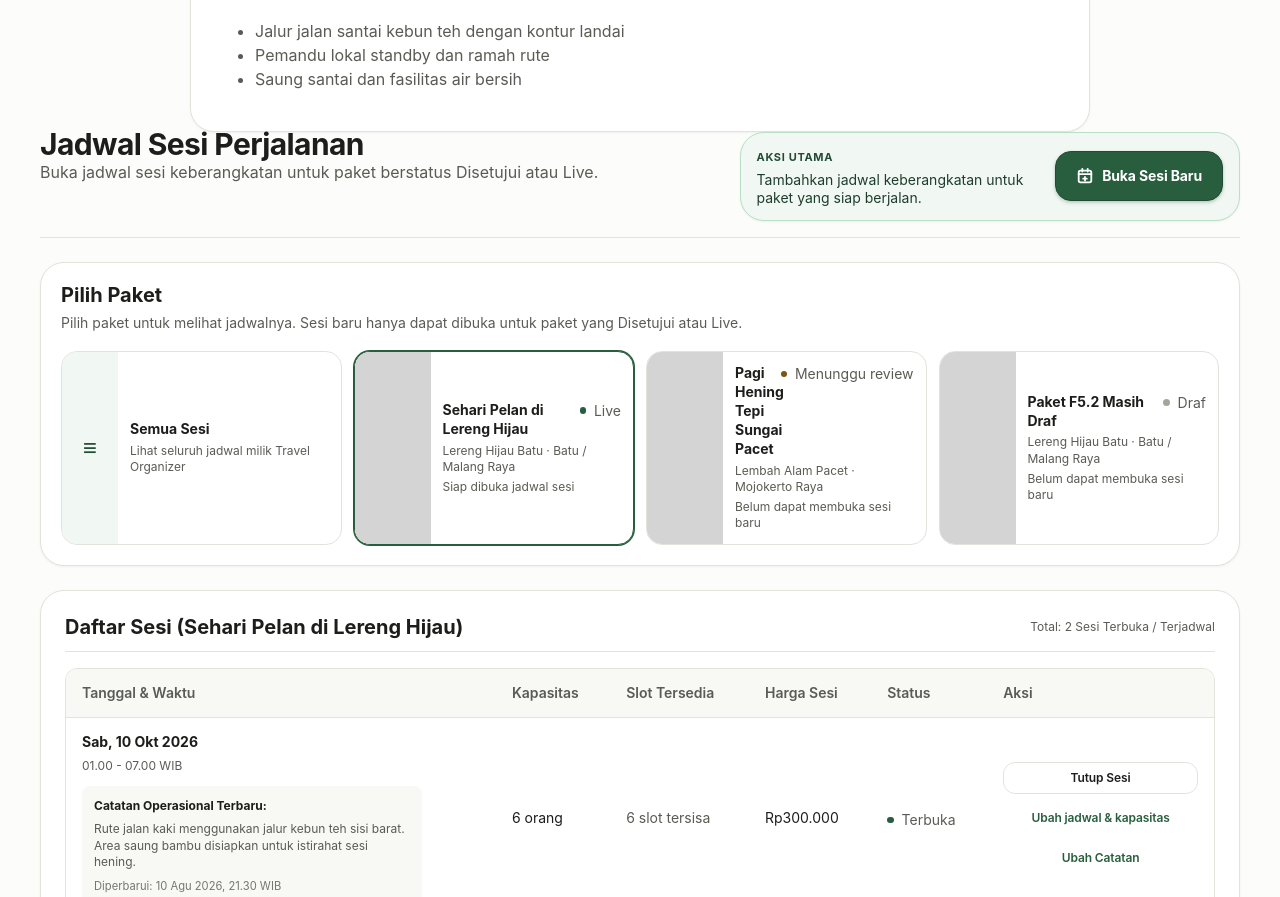
Scenario: F5.2 — EO Destination Discovery & Builder Clarity › 4. Sessions uses visual package cards and keeps DRAFT package ineligible for new sessions
(page scrolled)
expect the element with class "eo-session-package-selector" is shown: met, box [40,262,1240,566]
Click the button with class "eo-session-package-card" that starts with "Paket F5.2 Masih Draf". click: (1079, 448)
box: [938,351,1219,544]
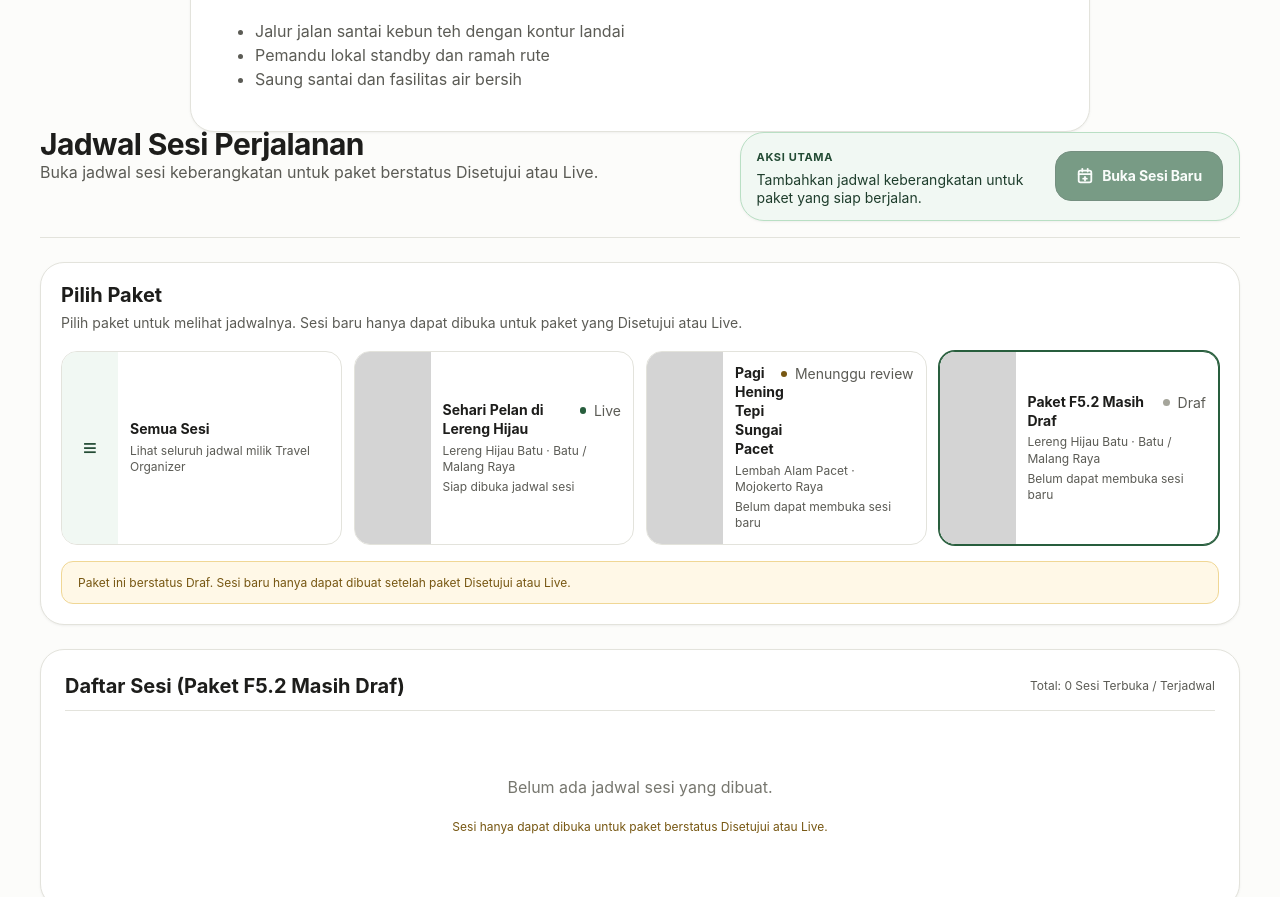
expect the text "Sesi baru hanya dapat dibuat setelah paket Disetujui atau Live" is shown: met, box [210,574,571,590]
expect the button with class "eo-action-spotlight__btn" is disabled: met, box [1055,151,1223,201]
